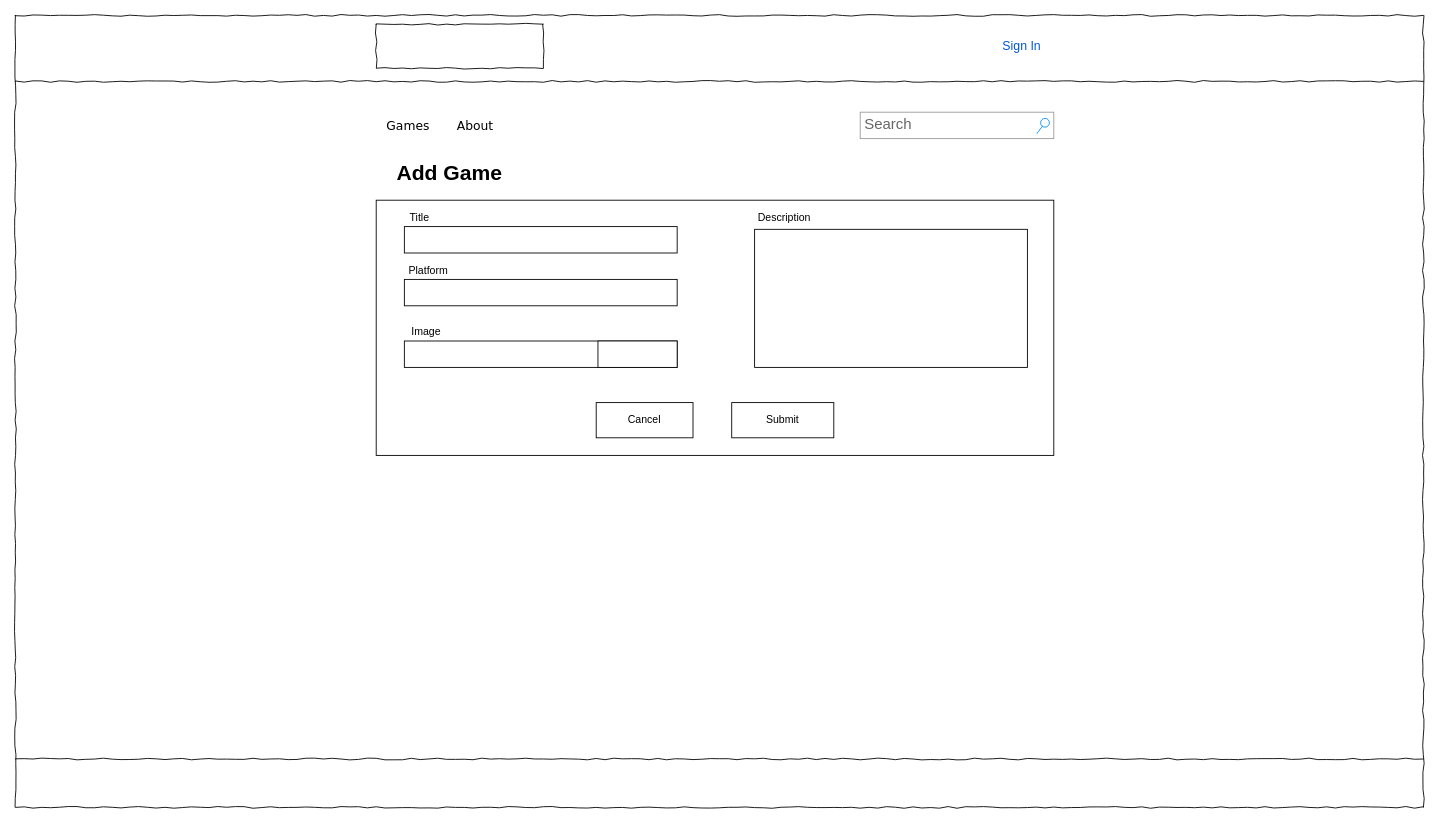
This 1439x823 diagram has some shape labels left out. The shapes that lost their labels are listed below. From the top down, each one's box as (x1, y1, x2, y2) in pixels, then its label:
(375, 23, 543, 68): MT
(597, 340, 677, 367): Browse...
